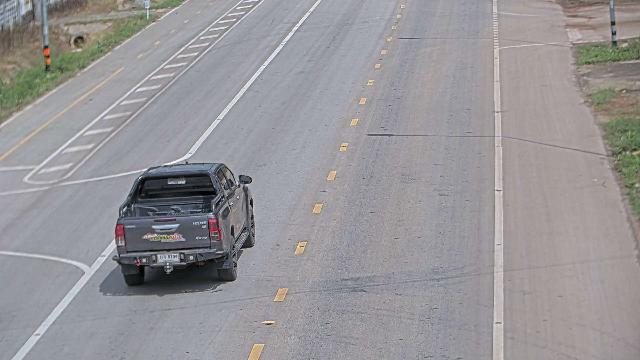pickup-truck: (112, 161, 256, 286)
